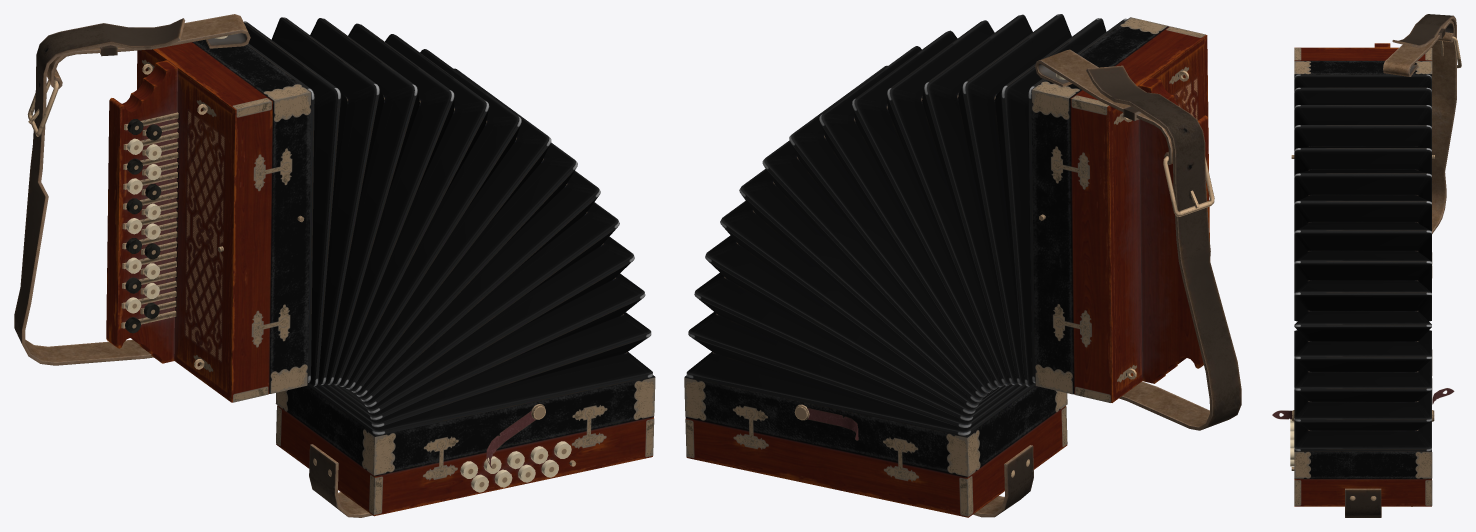
Rendered from accordion.glb.
The picture shows the model from 3 angles, left to right: view 1: azimuth 30°, elevation 25°; view 2: azimuth 150°, elevation 25°; view 3: azimuth 270°, elevation 25°; orthographic projection. The views are drawn at different scales.
Parts seen in each view (by area): view 1: TT_checker_2048x2048_COLOR_GRID-material (×15); view 2: TT_checker_2048x2048_COLOR_GRID-material (×13); view 3: TT_checker_2048x2048_COLOR_GRID-material (×9).
Boxes of the visible parts, x1=… form: TT_checker_2048x2048_COLOR_GRID-material (×15): x1=14, y1=14, x2=655, y2=517; TT_checker_2048x2048_COLOR_GRID-material (×13): x1=684, y1=14, x2=1241, y2=517; TT_checker_2048x2048_COLOR_GRID-material (×9): x1=1272, y1=14, x2=1456, y2=517.
Size of the model in its own units: 1.28 by 1.12 by 0.5519.
1 material, 1 textured.
